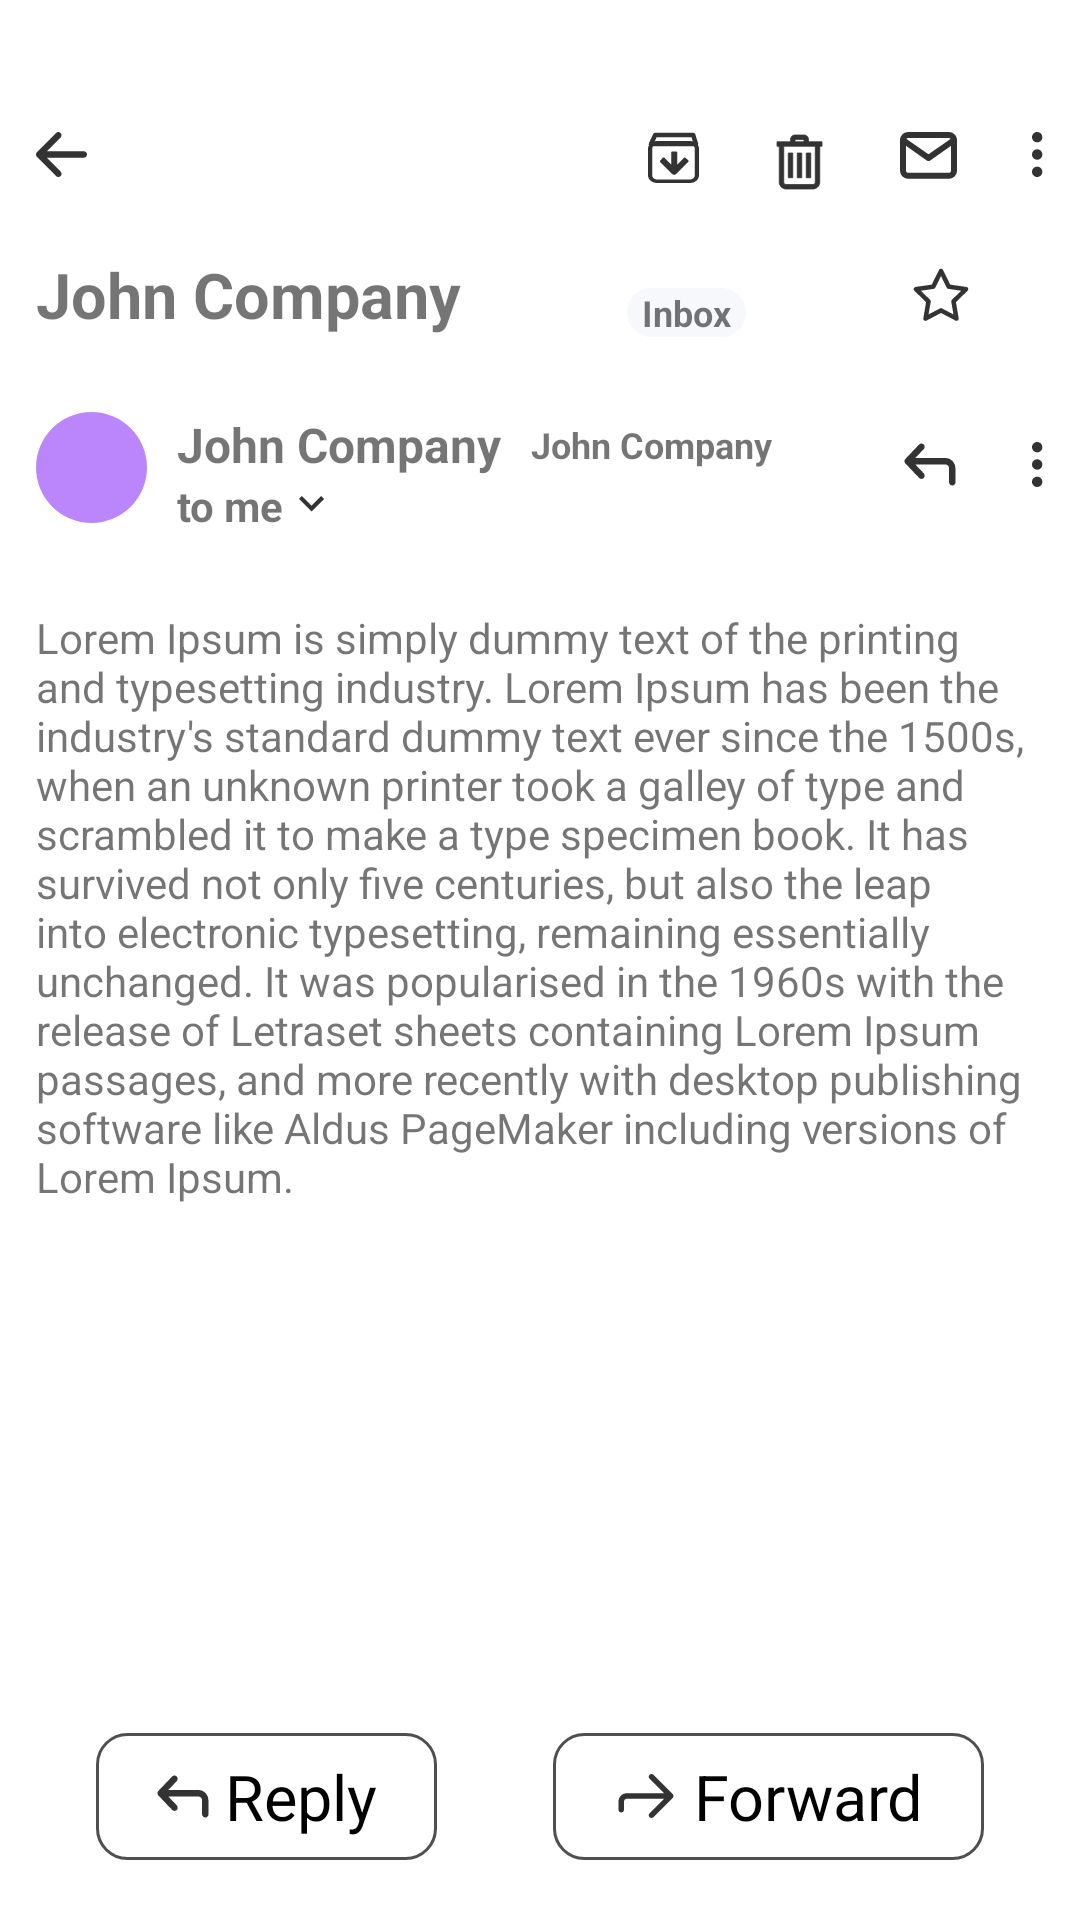

Point at icon controls on the screen. Image size 1080w x 1920h, points as [x,y].
back: [61,154]
delete: [799,162]
download: [673,157]
message: [928,155]
reply: [930,464]
star: [941,294]
